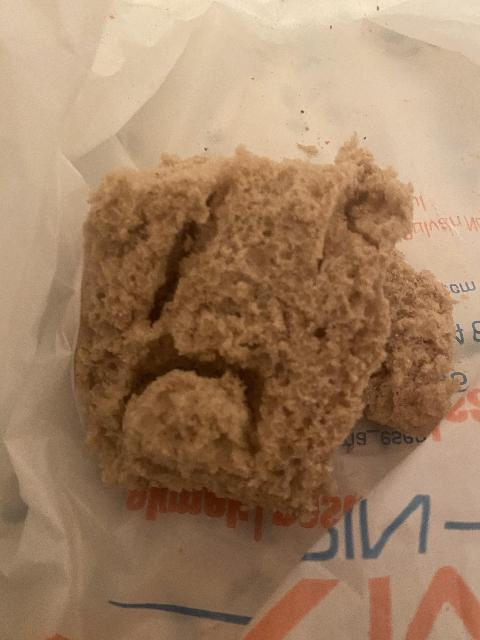Organik: (187, 156, 335, 510), (71, 179, 197, 486), (352, 276, 470, 424), (124, 378, 243, 479), (333, 143, 422, 259)
